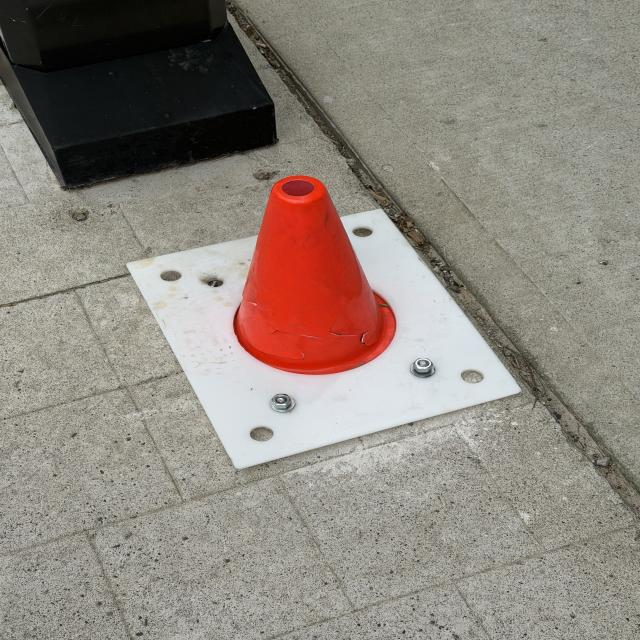Traffic Cone: (231, 174, 402, 376)
